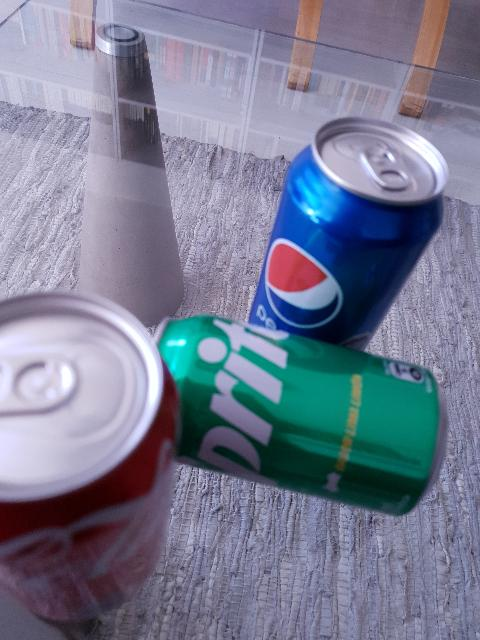coke: (0, 290, 174, 640)
pepsi: (248, 118, 450, 370)
sprite: (151, 310, 447, 522)
